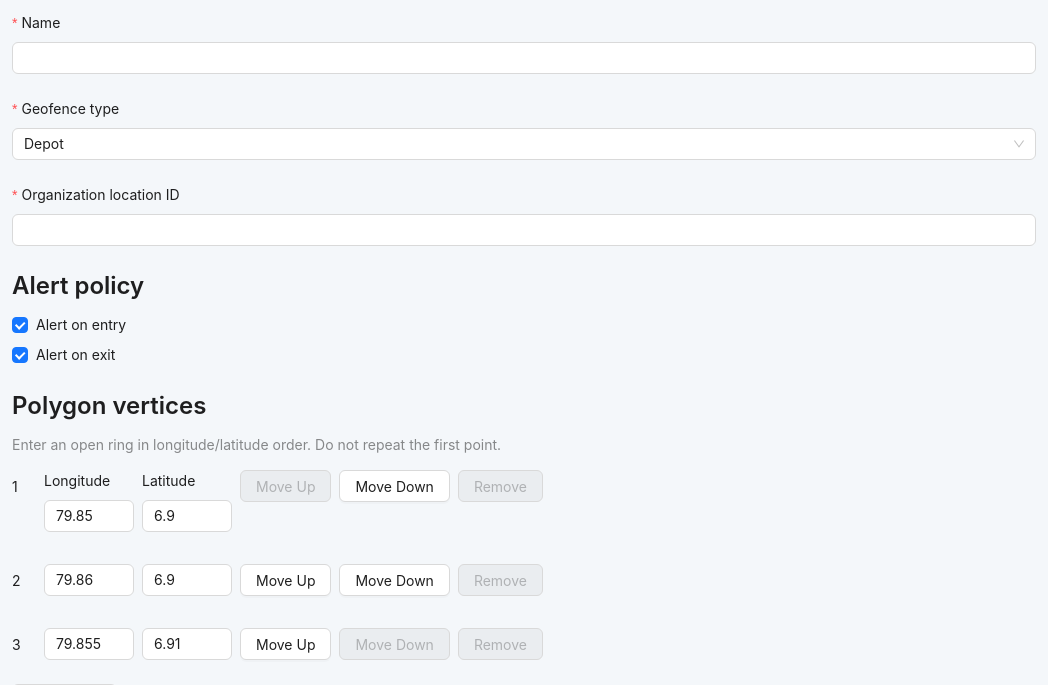
Test: GeofenceEditor › keeps mandatory entry alerts enabled and hides location for unauthorized zones
Press the mouse on the dropdown named "Geofence type" at (44, 144), box [24,135,64,152]
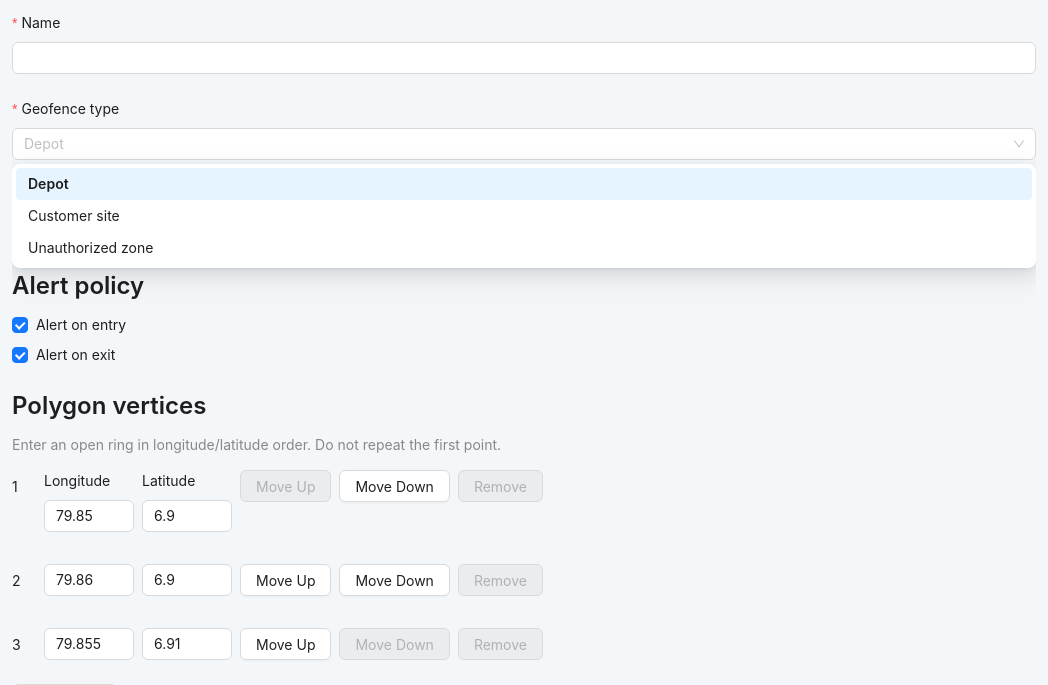
Click the text "Unauthorized zone".
click(91, 248)  # box [28,239,153,256]
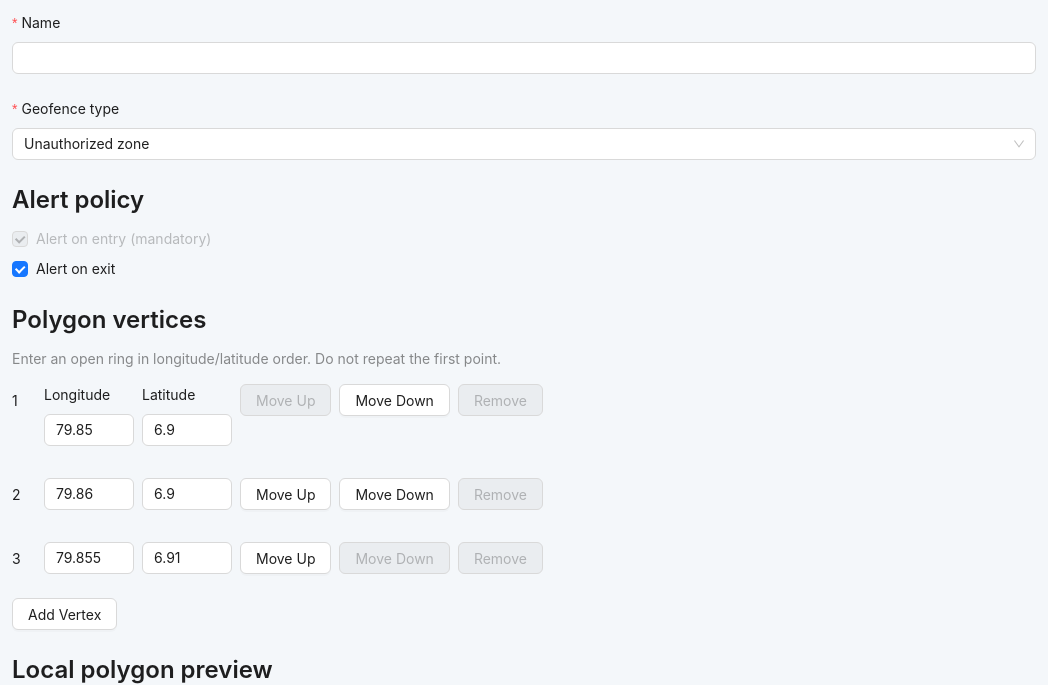
expect the label labelled "Organization location ID" is gone: met
expect the checkbox labelled "Alert on entry (mandatory)" is disabled: met, box [12,228,219,250]
